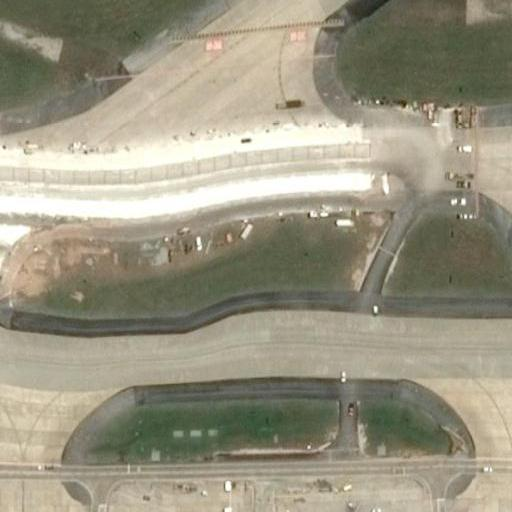Aircraft: (330, 502, 405, 512)
